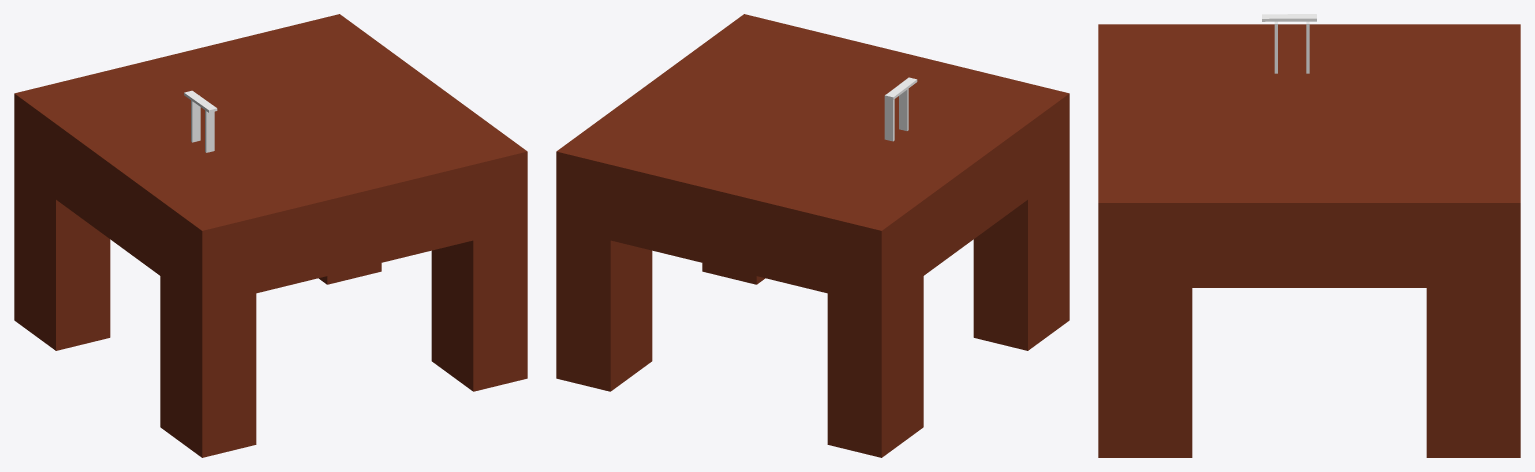
Rendered from keva_pi_clearance.dae.
The picture shows the model from 3 angles, left to right: view 1: azimuth 30°, elevation 25°; view 2: azimuth 150°, elevation 25°; view 3: azimuth 270°, elevation 25°; orthographic projection. The views are drawn at different scales.
Parts seen in each view (by area): view 1: base (×5); view 2: base (×5); view 3: base (×4).
Part boxes in pixels (x1,y1,x2,y2): base (×5): [14, 14, 527, 457]; base (×5): [556, 14, 1069, 457]; base (×4): [1098, 14, 1520, 457].
Size of the model in its own units: 0.9 by 0.9 by 0.7265.
